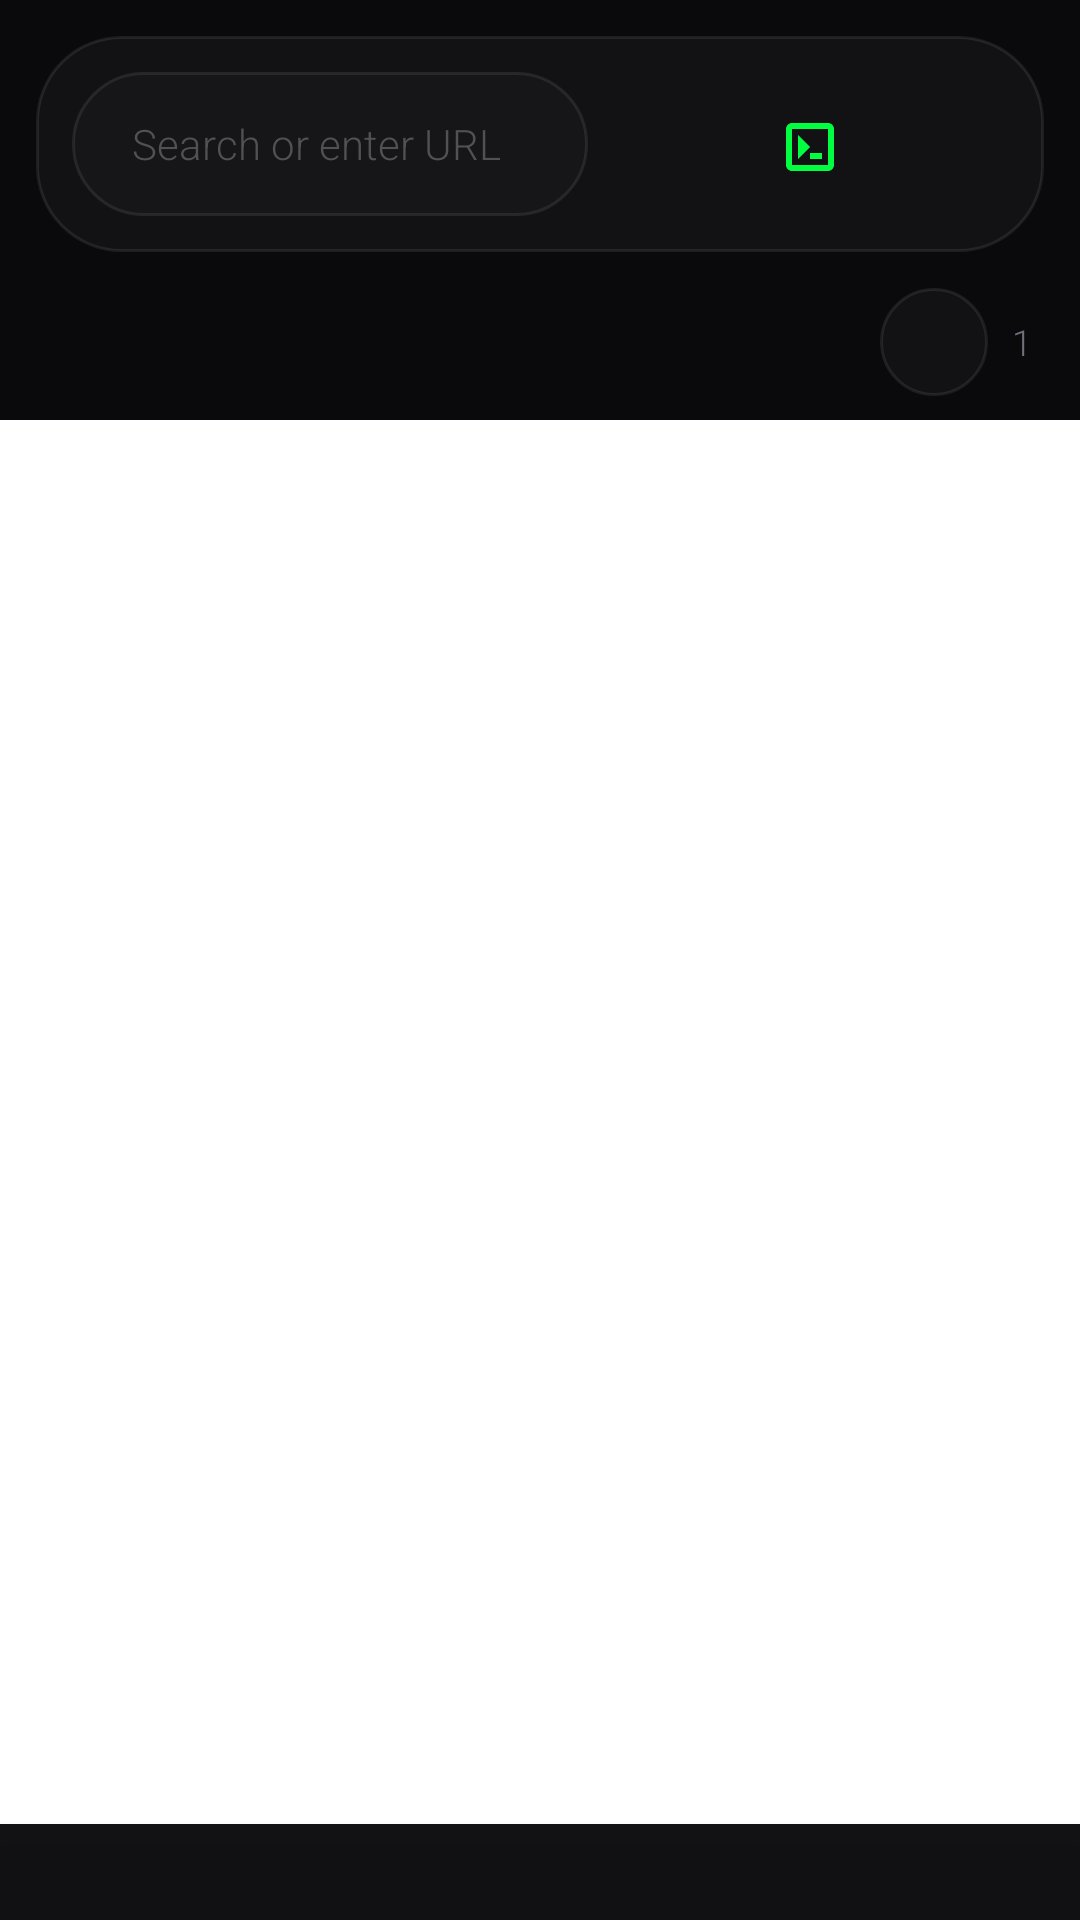

Locate icon controls on the screen. Image size 1080×1920, boxes as (x1, y1, x2, y2).
Console: (786, 123, 834, 171)
